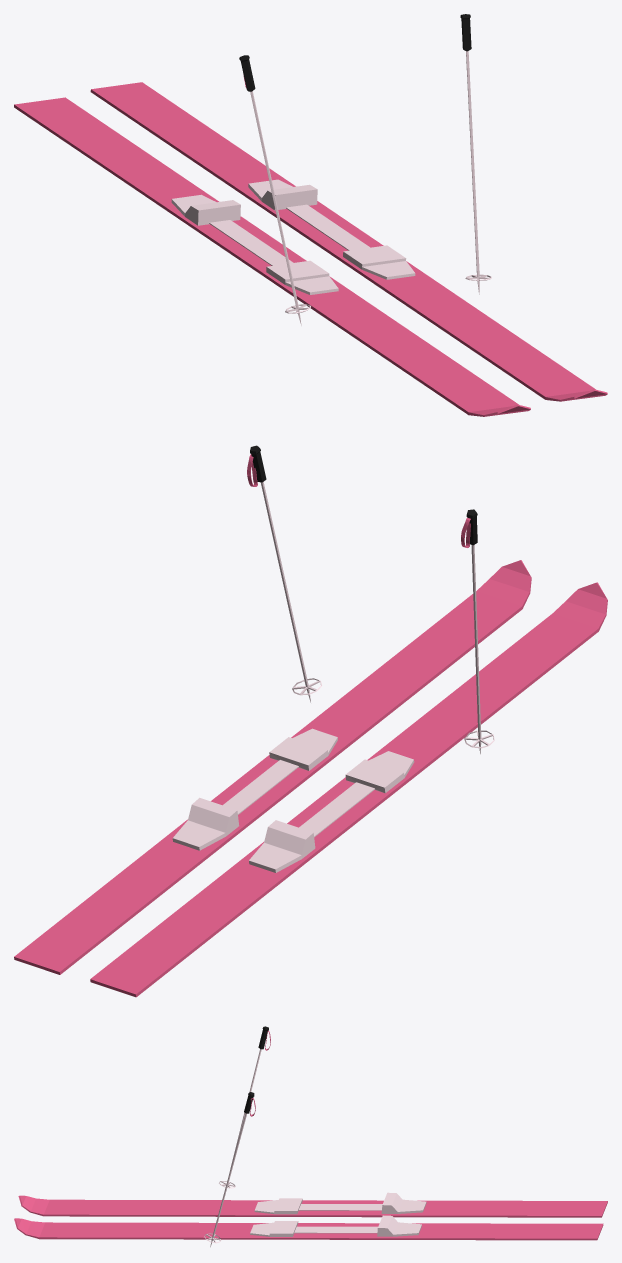
The model's file is skiOnFeet2.glb.
3 views of the same model, one above another, from view 1: azimuth 30°, elevation 25°; view 2: azimuth 150°, elevation 25°; view 3: azimuth 270°, elevation 25° (orthographic). The views are drawn at different scales.
Parts seen in each view (by area): view 1: group915994952.001, group915994952, group1189042932.001, group1189042932; view 2: group915994952, group915994952.001, group1189042932.001, group1189042932; view 3: group915994952.001, group915994952, group1189042932.001, group1189042932.
Part boxes in pixels (left/top/right/bottom): group915994952.001: left=90, top=82, right=607, bottom=401; group915994952: left=14, top=97, right=530, bottom=416; group1189042932.001: left=460, top=14, right=491, bottom=294; group1189042932: left=239, top=55, right=310, bottom=325; group915994952: left=90, top=582, right=607, bottom=997; group915994952.001: left=14, top=560, right=531, bottom=974; group1189042932.001: left=250, top=445, right=321, bottom=702; group1189042932: left=464, top=509, right=494, bottom=754; group915994952.001: left=14, top=1215, right=603, bottom=1240; group915994952: left=18, top=1192, right=607, bottom=1217; group1189042932.001: left=204, top=1092, right=254, bottom=1247; group1189042932: left=219, top=1026, right=268, bottom=1188.
Size of the model in its own units: 3.83 by 4.32 by 14.16.
